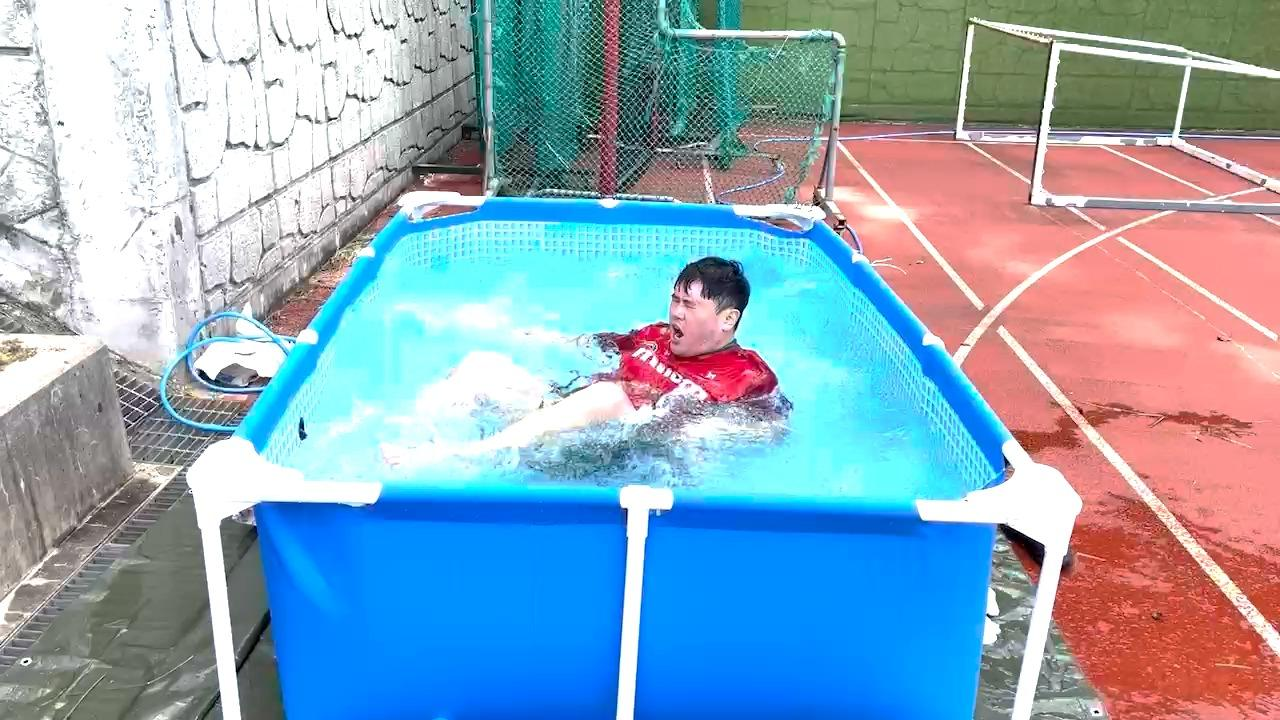Drowning: (370, 255, 769, 471)
